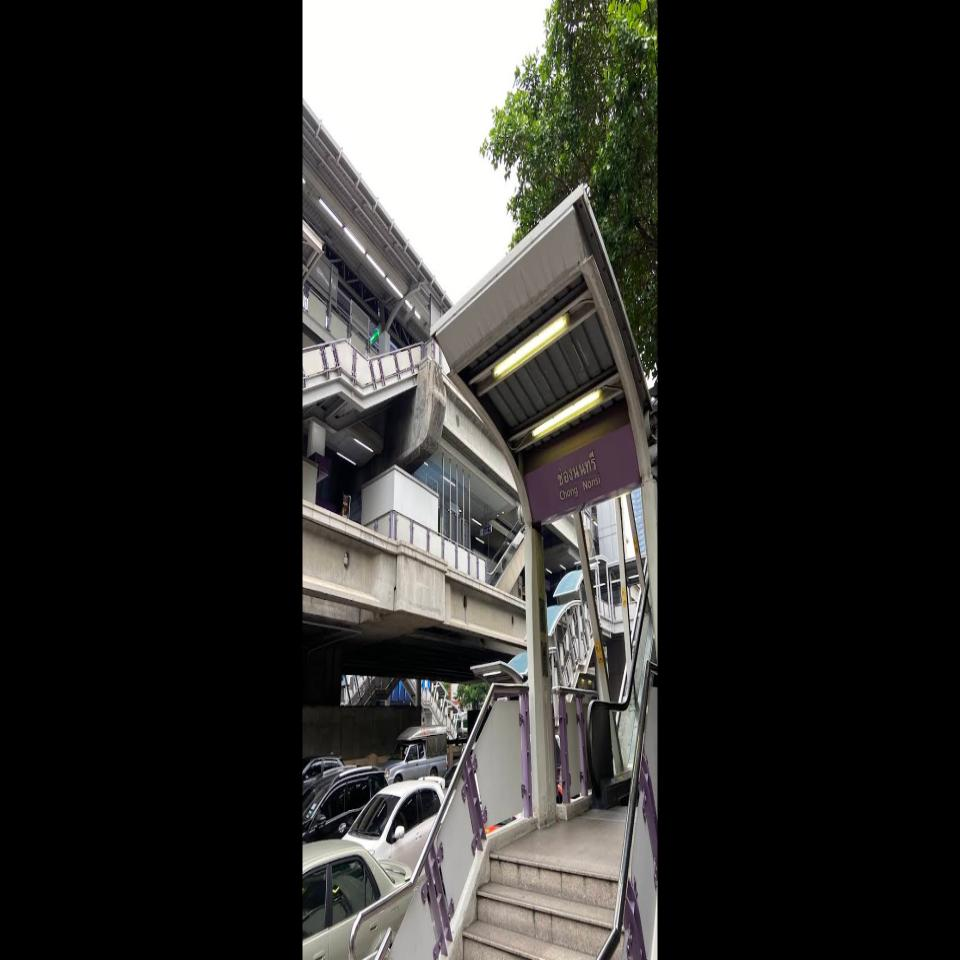Chong Nonsi: (523, 421, 642, 523)
